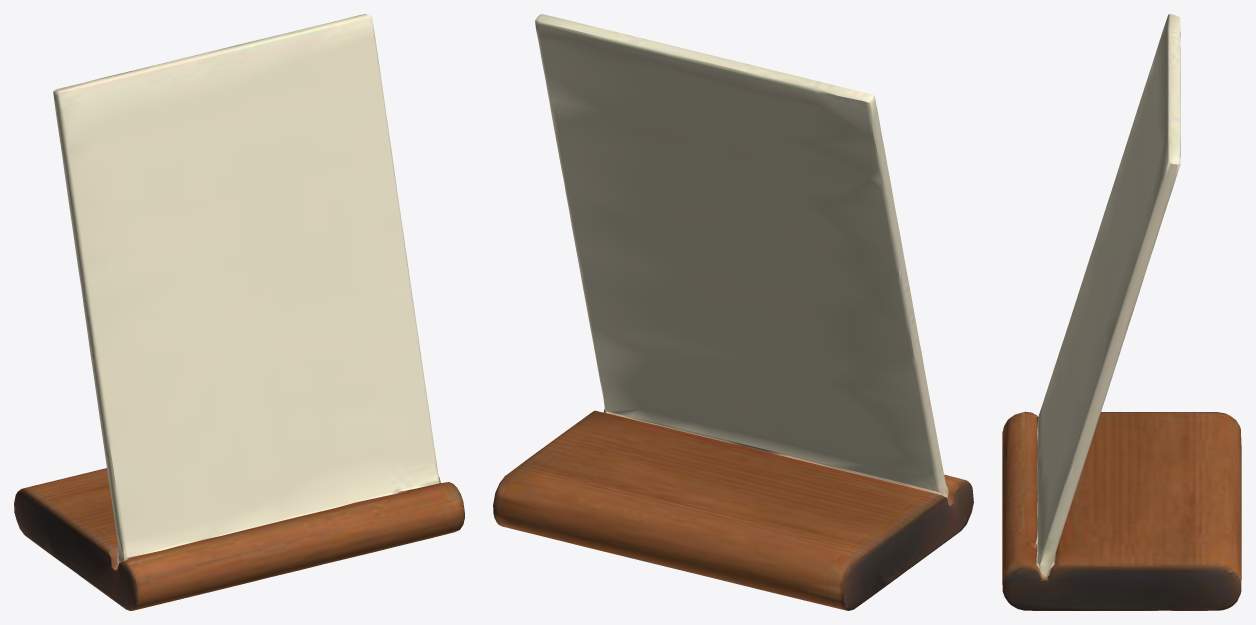
Rendered from menu.glb.
3 views of the same model, side by side, from view 1: azimuth 30°, elevation 25°; view 2: azimuth 150°, elevation 25°; view 3: azimuth 270°, elevation 25° (orthographic). The views are drawn at different scales.
Parts seen in each view (by area): view 1: menu; view 2: menu; view 3: menu.
Part boxes in pixels (x1,y1,x2,y2): menu: [14, 14, 464, 610]; menu: [493, 14, 973, 610]; menu: [1002, 14, 1241, 610].
Size of the model in its own units: 0.1492 by 0.2 by 0.097.
Materials: 1 (1 with a texture image).
